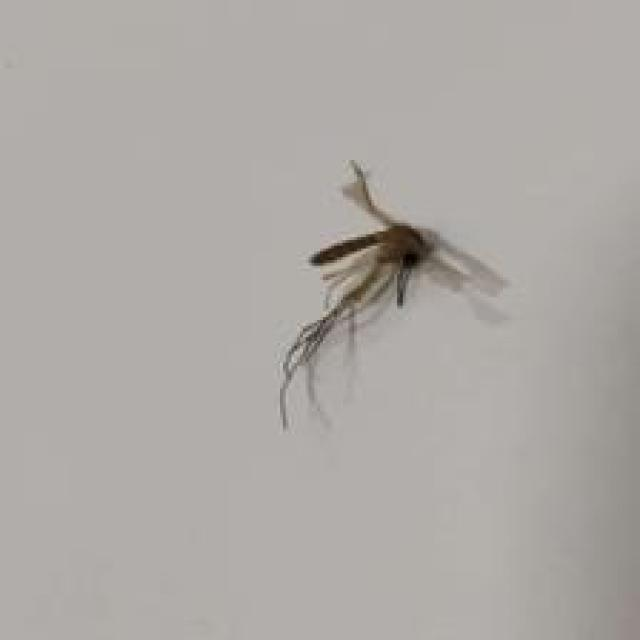Culex: (277, 157, 512, 432)
